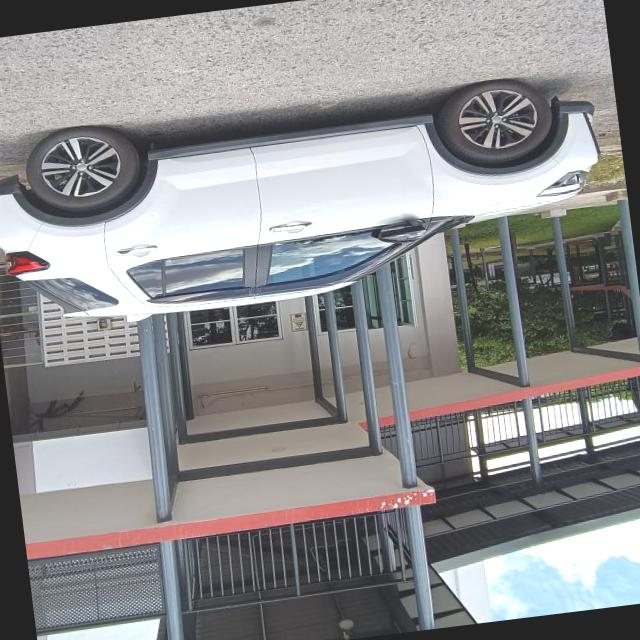PeroduaAtiva: (0, 63, 615, 337)
